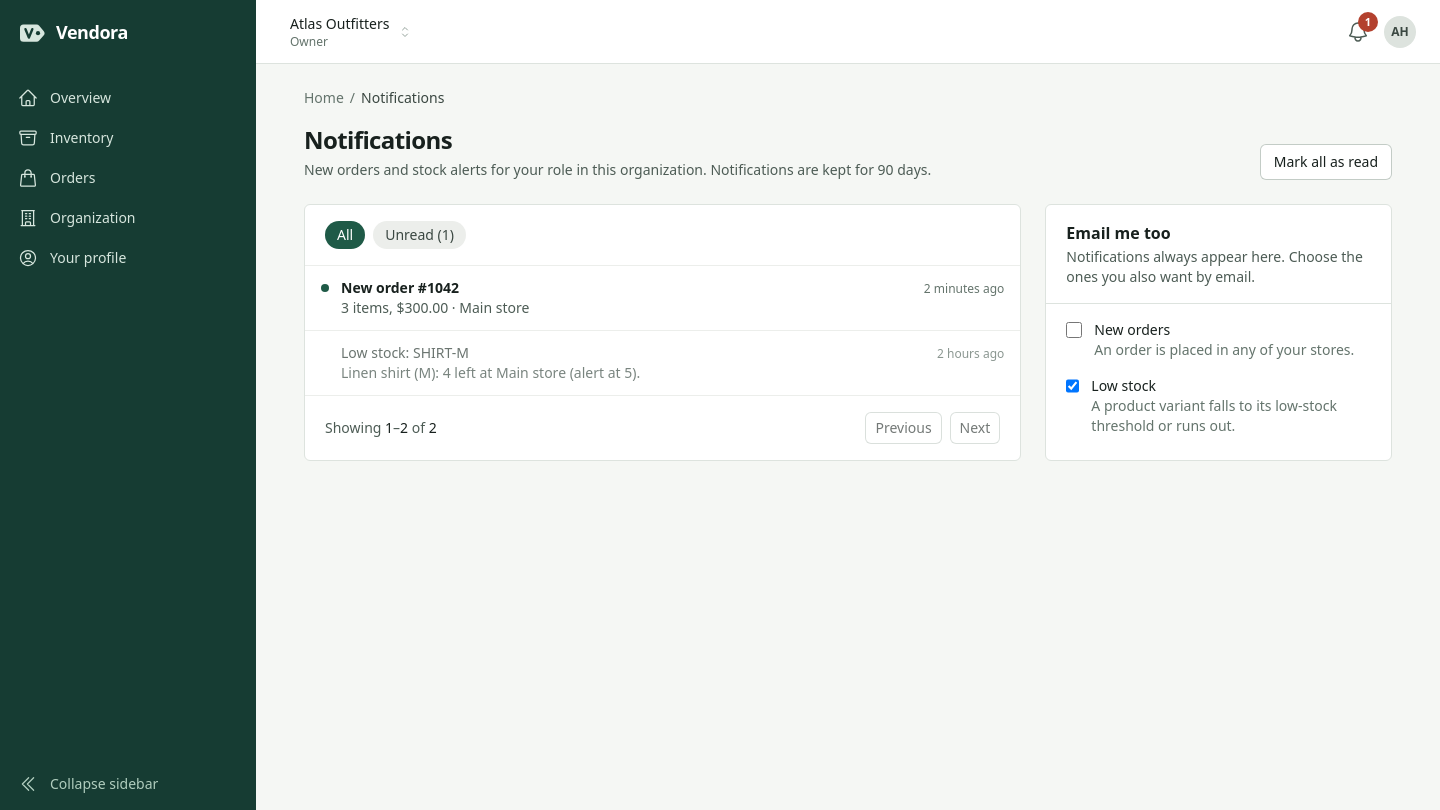
Test case: notifications page › turns an email copy on and off
Check: the checkbox labelled "Low stock" is checked, box 1066,378 -> 1079,394
Step 1. Click the checkbox labelled "New orders An order is placed in any of your stores." → click(1074, 330), box 1066,322 -> 1082,338
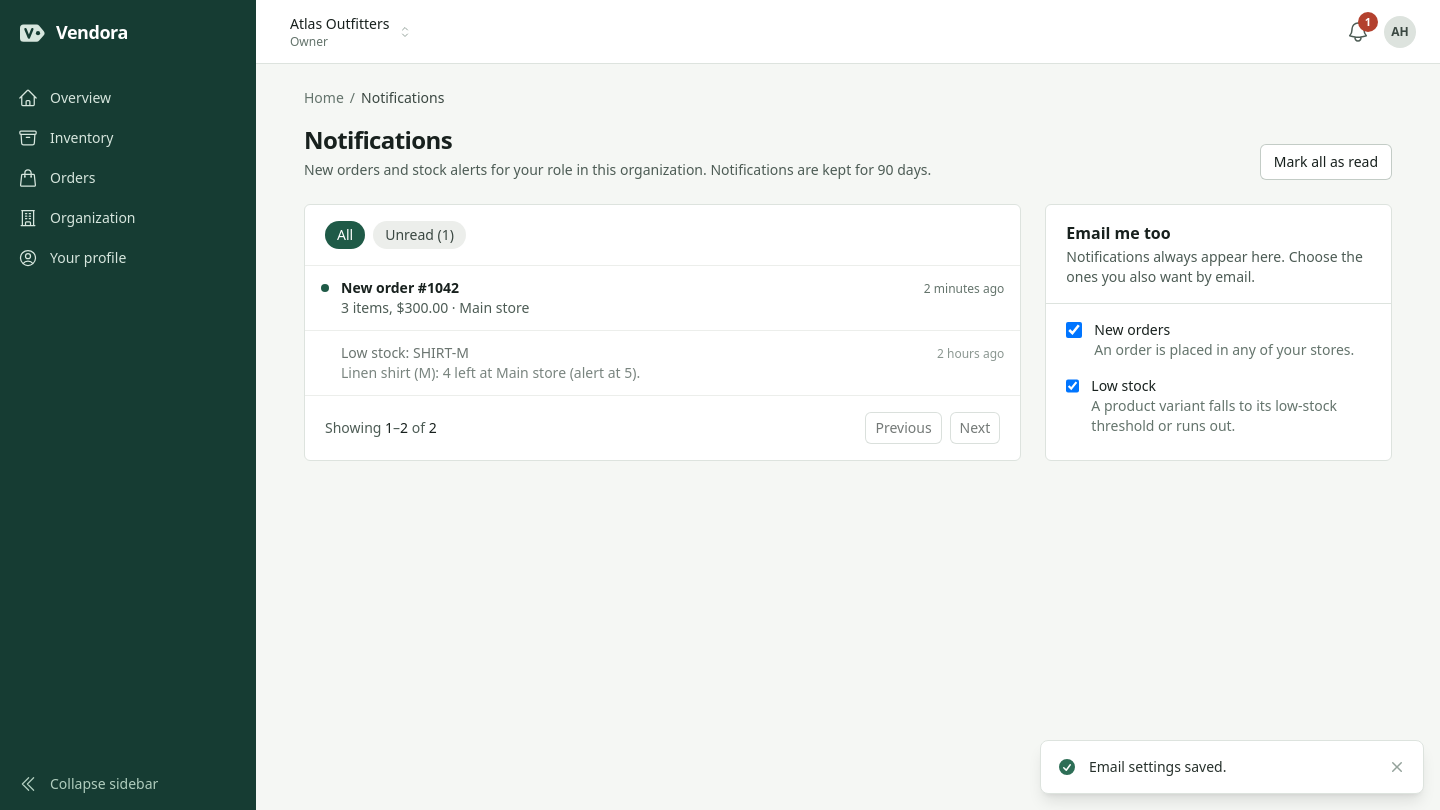
Check: the checkbox labelled "New orders An order is placed in any of your stores." is checked, box 1066,322 -> 1082,338
Check: the text "Email settings saved." is shown, box 1089,757 -> 1226,776
